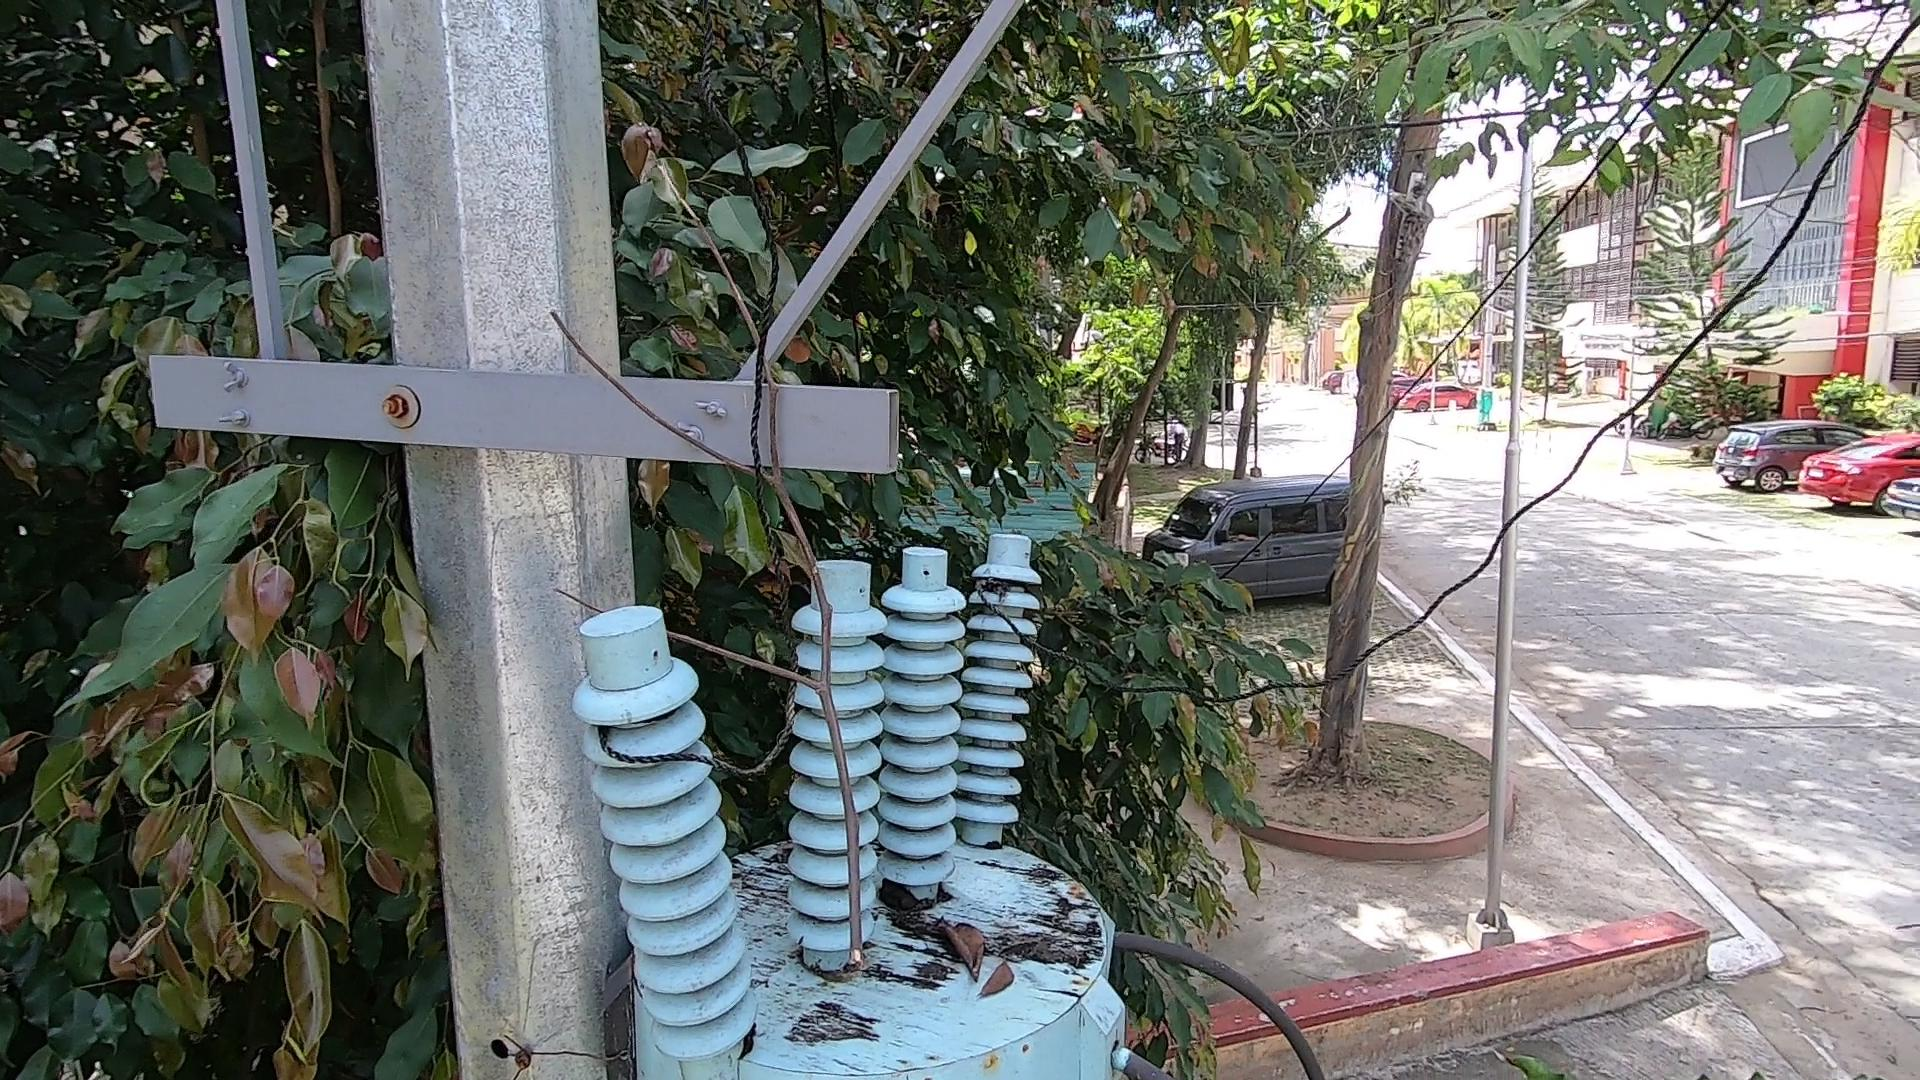leaf: (920, 909, 996, 986), (880, 882, 938, 942), (982, 953, 1029, 1005)
tree branch: (547, 138, 891, 967)
